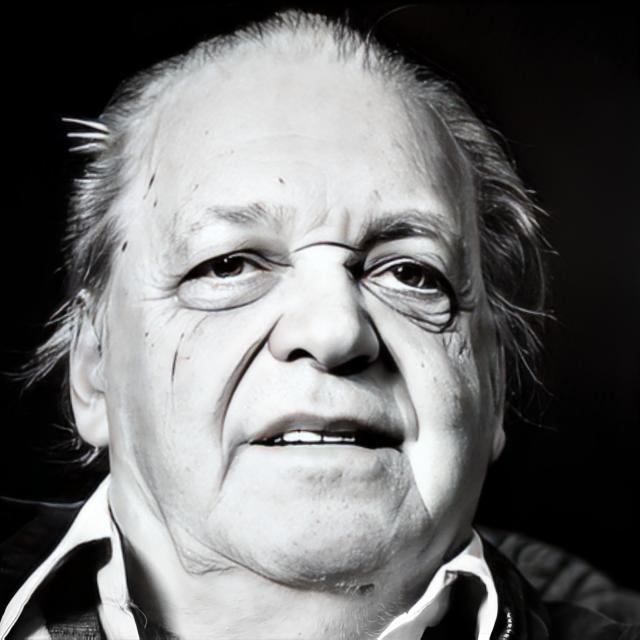disgust: (106, 99, 497, 594)
